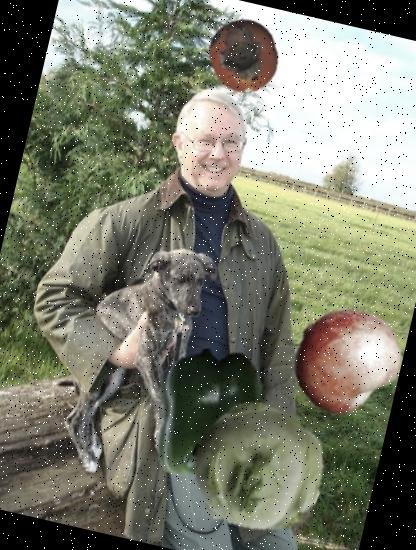Kaki: (198, 11, 288, 101)
Kohlrabi: (177, 390, 337, 550)
Nectarine: (278, 294, 410, 426)
Pepper: (133, 336, 290, 492)
